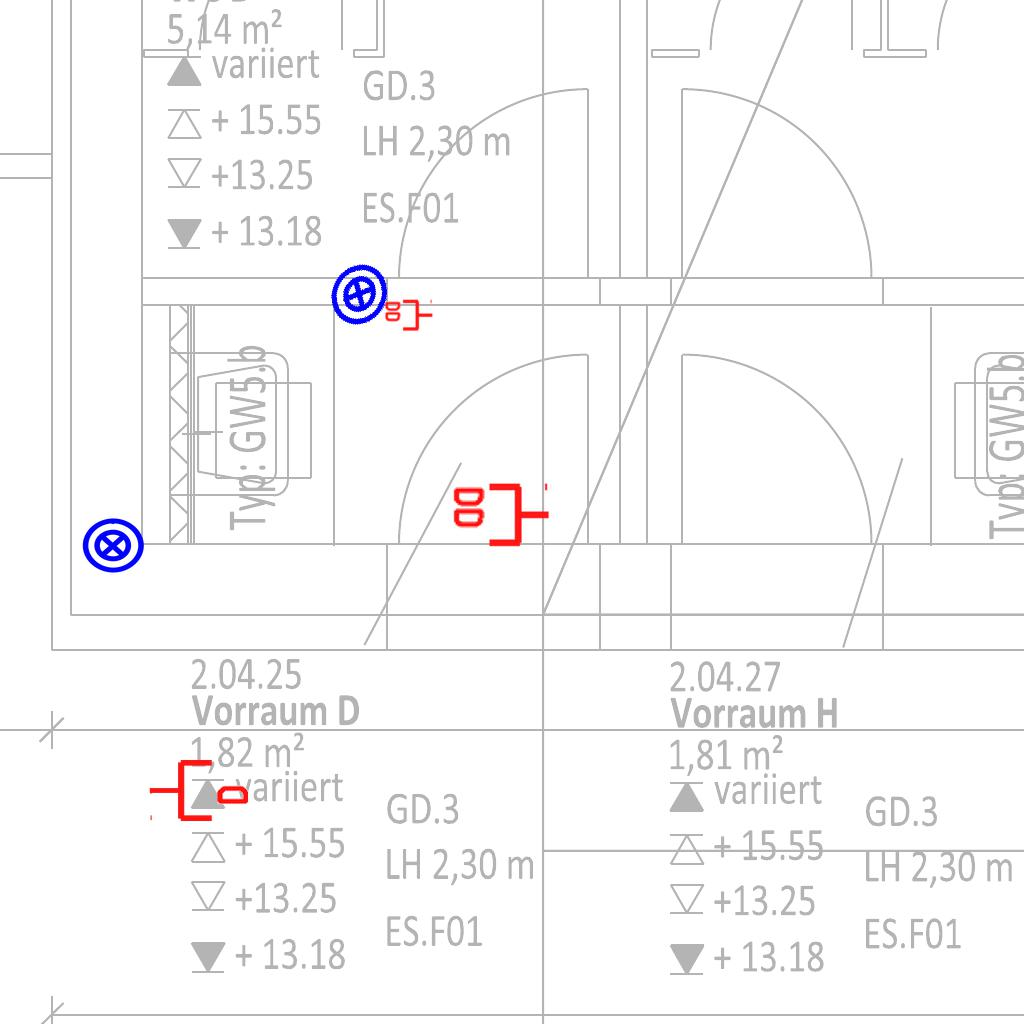Datenanschluss_einfach: (148, 756, 248, 825)
Datenanschluss_zweifach: (449, 482, 552, 551), (383, 299, 434, 333)
Taster_beleuchtet: (314, 249, 404, 339), (80, 513, 146, 579)
